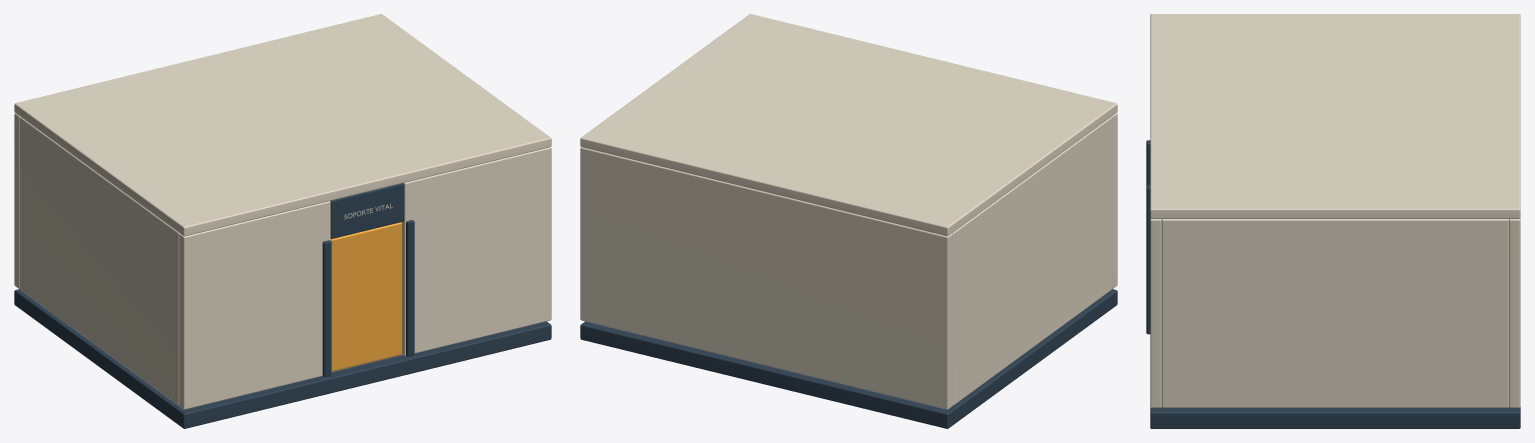
The model's file is life_support.glb.
3 renders of one model, left to right at view 1: azimuth 30°, elevation 25°; view 2: azimuth 150°, elevation 25°; view 3: azimuth 270°, elevation 25°, orthographic. The views are drawn at different scales.
Visible parts, largest first — view 1: Body, Cover, Door_0; view 2: Body, Cover; view 3: Body, Cover.
Boxes of the visible parts, bbox=[...] form: Body: bbox=[14, 113, 551, 428]; Cover: bbox=[14, 14, 551, 236]; Door_0: bbox=[330, 222, 402, 371]; Body: bbox=[580, 113, 1117, 428]; Cover: bbox=[580, 14, 1117, 236]; Body: bbox=[1146, 140, 1520, 428]; Cover: bbox=[1150, 14, 1520, 218].
Bounding box in the file's own units: 6 × 3.15 × 4.85.
